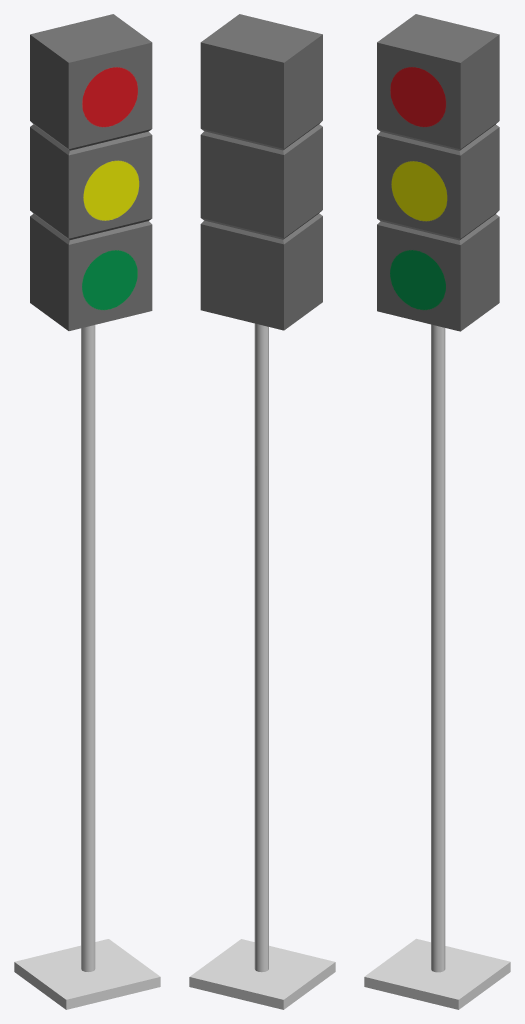
File: trfficlights.FBX
3 views of the same model, side by side, from view 1: azimuth 30°, elevation 25°; view 2: azimuth 150°, elevation 25°; view 3: azimuth 330°, elevation 25° (orthographic).
Parts seen in each view (by area): view 1: Box005, Cylinder007, Box006; view 2: Box005, Cylinder007, Box006; view 3: Box005, Cylinder007, Box006.
Boxes of the visible parts, <box> form: Box005: <box>30,14,152,330</box>; Cylinder007: <box>81,325,95,971</box>; Box006: <box>14,939,160,1009</box>; Box005: <box>200,14,322,330</box>; Cylinder007: <box>254,323,268,972</box>; Box006: <box>189,939,335,1009</box>; Box005: <box>377,14,499,331</box>; Cylinder007: <box>431,324,445,972</box>; Box006: <box>364,938,510,1009</box>.
Bounding box in the file's own units: 30.66 × 292 × 29.21.
Materials: 1 (1 with a texture image).
